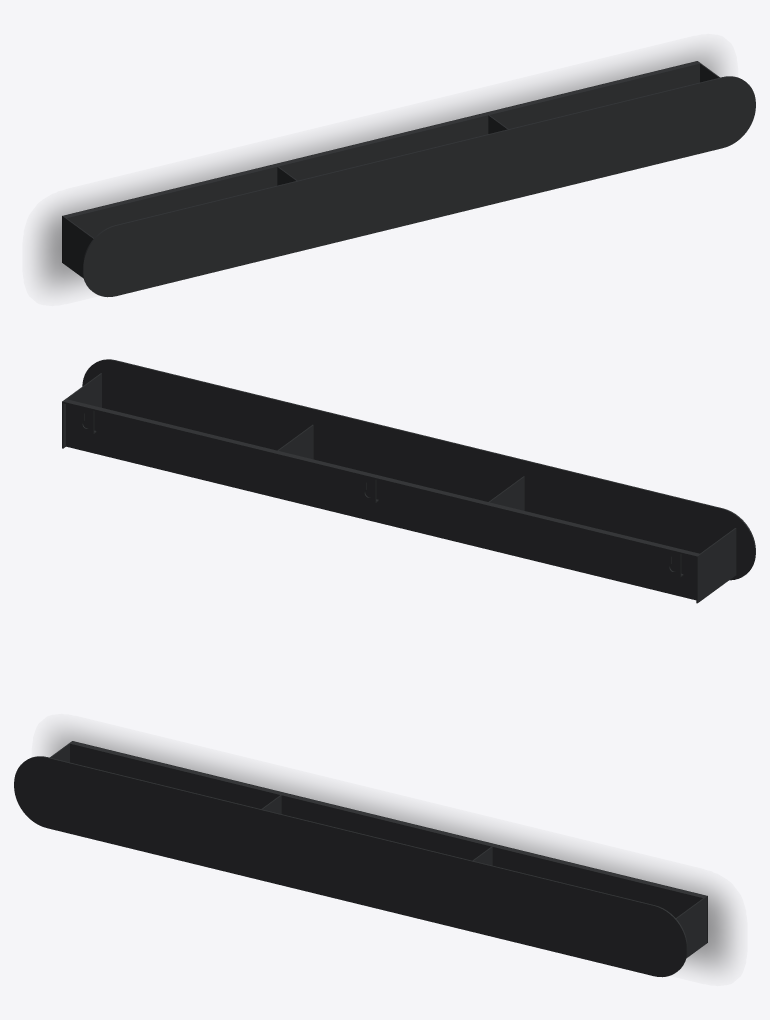
File: round-mono.e77272321b.ar.glb
3 renders of one model, top to bottom at view 1: azimuth 30°, elevation 25°; view 2: azimuth 150°, elevation 25°; view 3: azimuth 330°, elevation 25°, orthographic.
Visible parts, largest first — view 1: NAUO1, object 2; view 2: NAUO1; view 3: NAUO1, object 2.
Boxes of the visible parts, x1=… form: NAUO1: x1=62, y1=61, x2=755, y2=297; object 2: x1=36, y1=51, x2=723, y2=288; NAUO1: x1=62, y1=359, x2=755, y2=603; NAUO1: x1=14, y1=741, x2=707, y2=977; object 2: x1=46, y1=731, x2=733, y2=968.
Bounding box in the file's own units: 0.98 × 0.17 × 0.092.
Materials: 2 (1 with a texture image).
